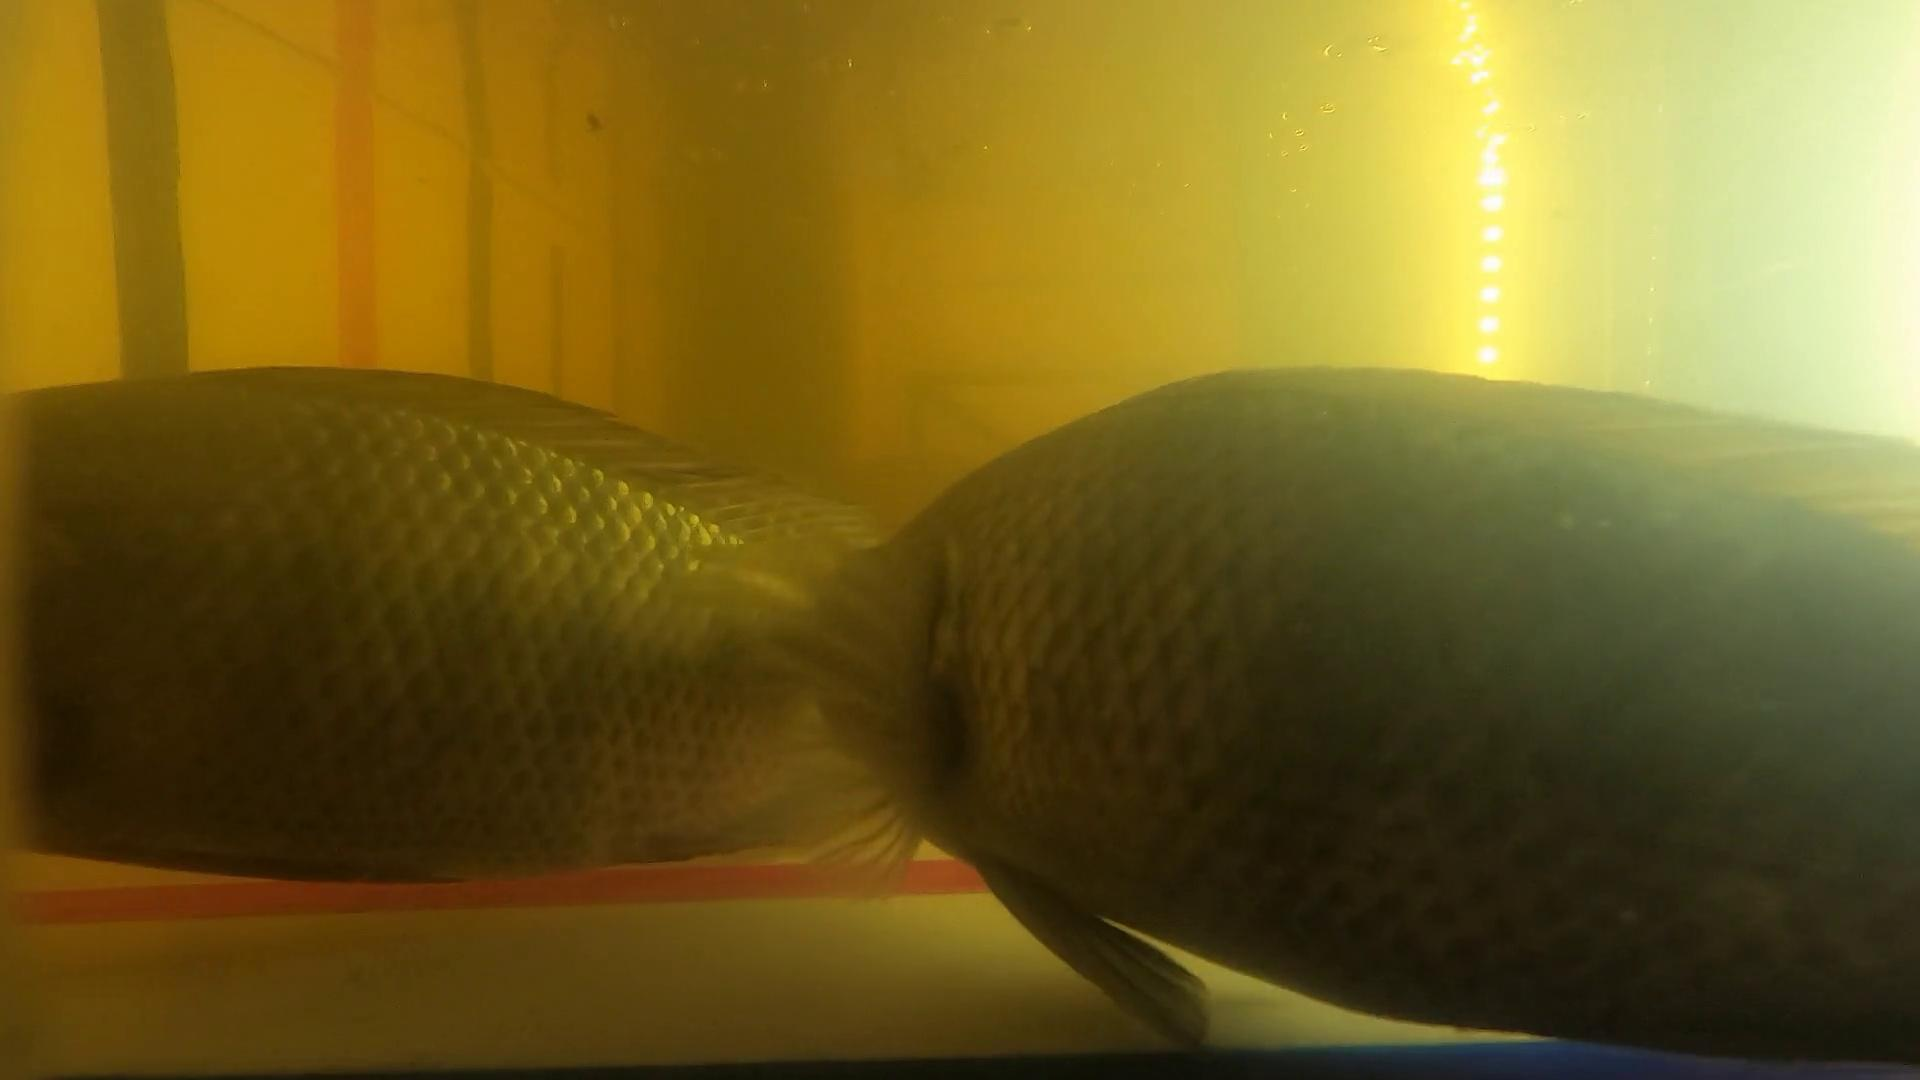Tilapia: (786, 369, 1920, 1069), (0, 371, 915, 887)
